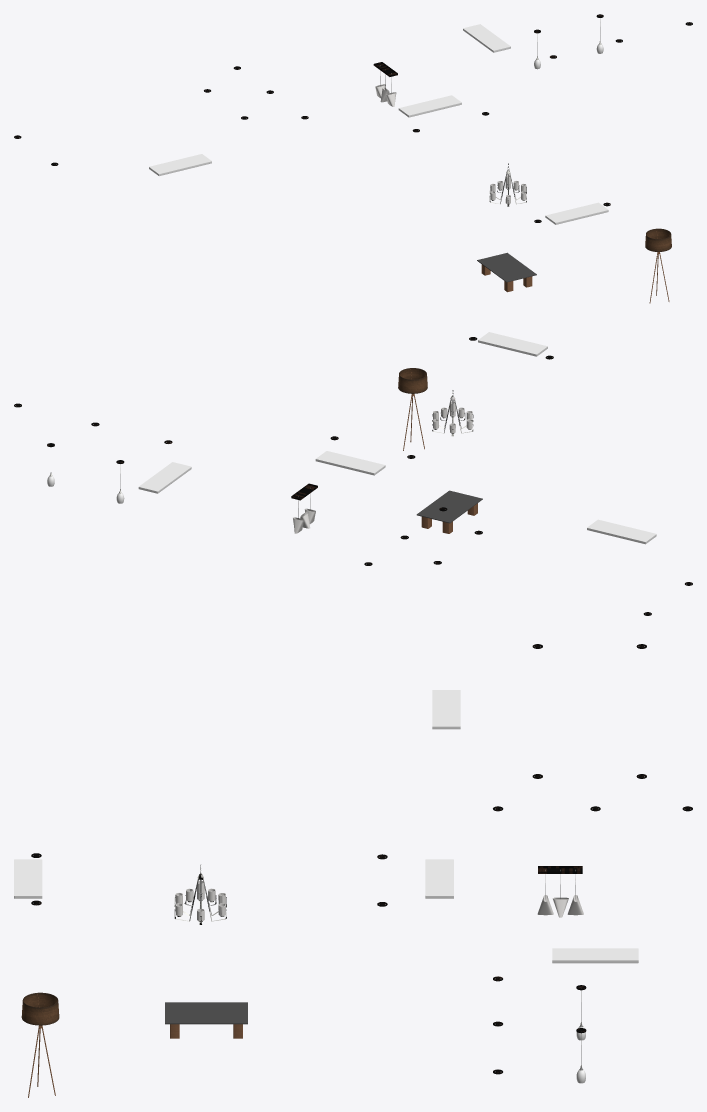
Rendered from CombinedMesh-MeshBaker (11)-mesh.fbx.
3 views of the same model, one above another, from view 1: azimuth 30°, elevation 25°; view 2: azimuth 150°, elevation 25°; view 3: azimuth 270°, elevation 25° (orthographic). The views are drawn at different scales.
Parts seen in each view (by area): view 1: MeshBaker__11__mesh_mesh; view 2: MeshBaker__11__mesh_mesh; view 3: MeshBaker__11__mesh_mesh.
Boxes of the visible parts, x1,y1,x2,y2 form: MeshBaker__11__mesh_mesh: (14, 14, 692, 303); MeshBaker__11__mesh_mesh: (14, 332, 692, 615); MeshBaker__11__mesh_mesh: (14, 644, 692, 1097).
Bounding box in the file's own units: 1342 × 241 × 898.
4 materials, 3 textured.
